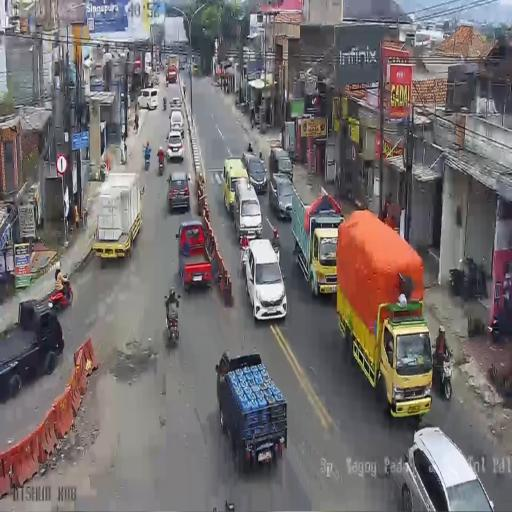car: (398, 426, 497, 510), (2, 304, 66, 400), (242, 237, 287, 321), (177, 221, 213, 291), (269, 174, 294, 220), (242, 150, 267, 194), (167, 172, 190, 212), (166, 133, 184, 162), (137, 88, 158, 112), (169, 109, 184, 137), (169, 96, 182, 109), (192, 64, 198, 76), (180, 61, 186, 71)
motorcycle: (46, 274, 72, 312), (165, 296, 180, 345), (157, 152, 165, 175), (144, 152, 151, 170), (162, 98, 167, 111)
truck: (337, 209, 430, 415), (288, 186, 341, 298), (92, 172, 144, 265), (167, 56, 179, 82), (144, 51, 153, 82)
